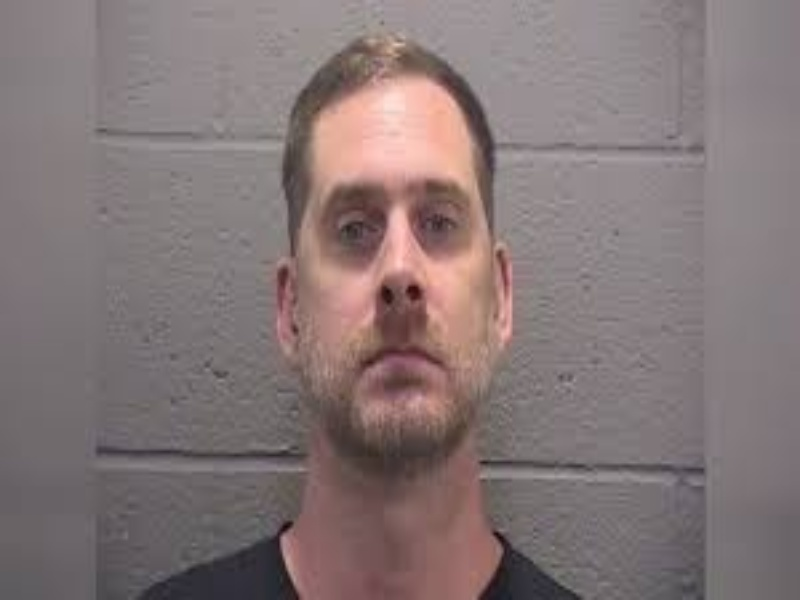face: (314, 171, 485, 411)
